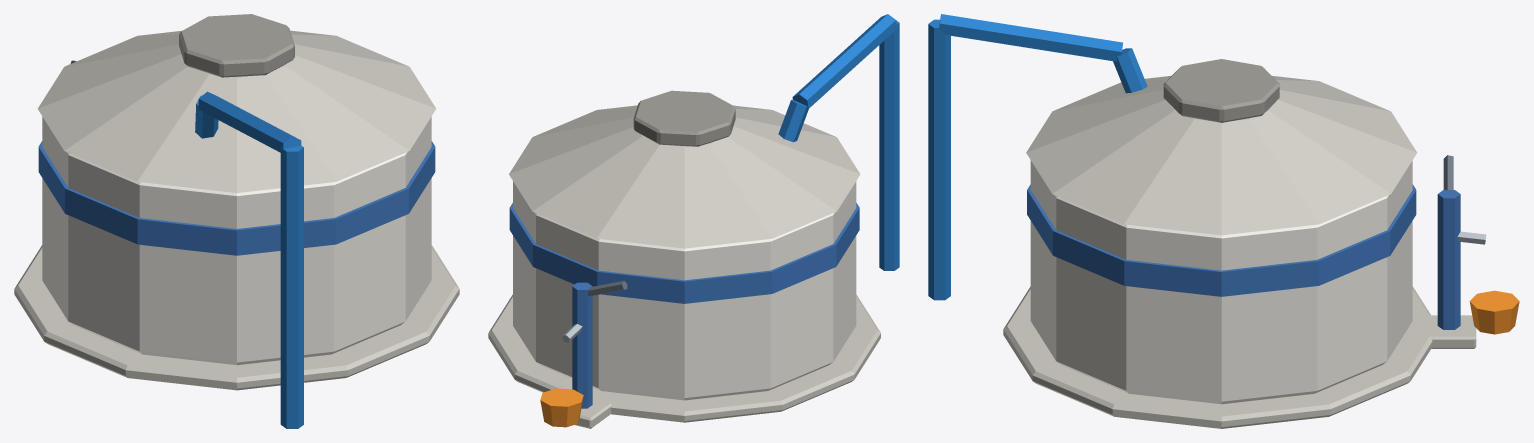
File: kit-cidade-cisterna.glb
3 renders of one model, left to right at view 1: azimuth 30°, elevation 25°; view 2: azimuth 150°, elevation 25°; view 3: azimuth 270°, elevation 25°, orthographic. The views are drawn at different scales.
Visible parts, largest first — view 1: corpo; view 2: corpo; view 3: corpo.
Boxes of the visible parts, left/top/right/bottom form: corpo: left=14, top=14, right=459, bottom=428; corpo: left=488, top=14, right=899, bottom=428; corpo: left=928, top=14, right=1519, bottom=428.
Size of the model in its own units: 0.96 by 0.6847 by 1.3.
